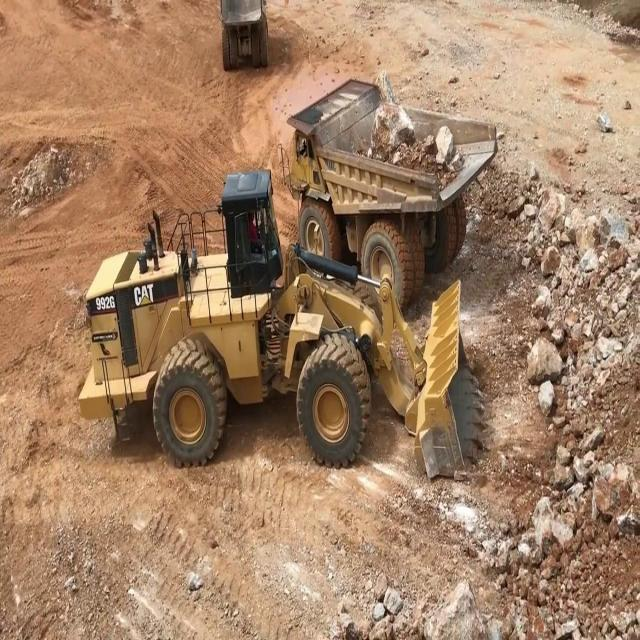Dump Truck: (284, 75, 498, 311), (219, 1, 269, 71)
Loader: (71, 163, 487, 482)
